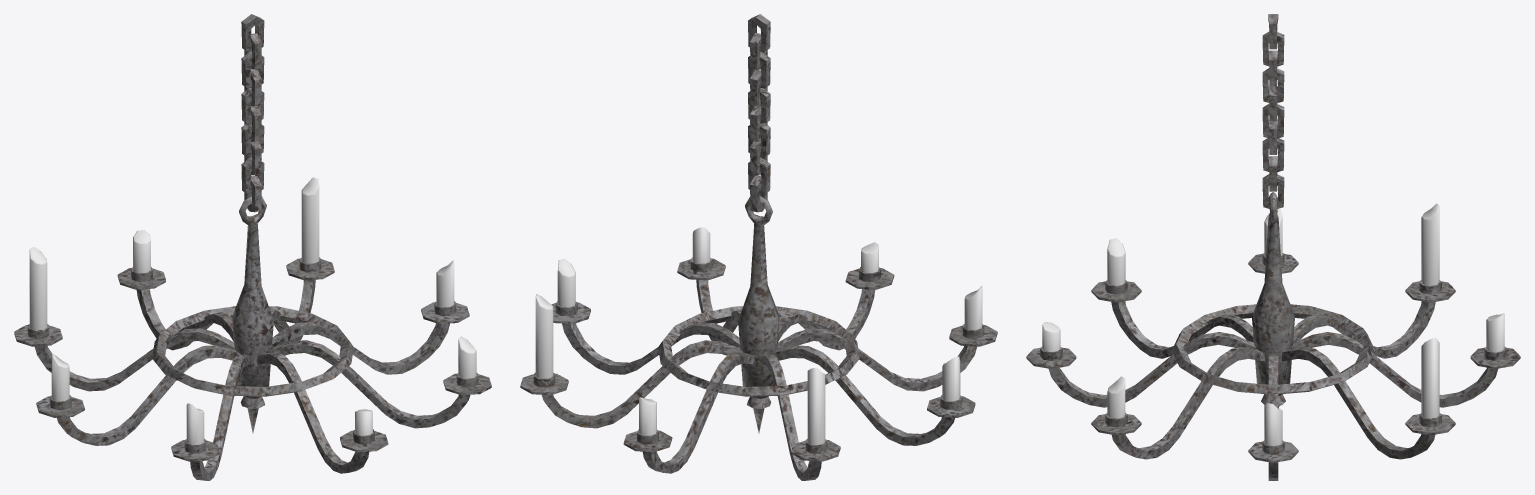
The model's file is Chandelier.fbx.
The picture shows the model from 3 angles, left to right: view 1: azimuth 30°, elevation 25°; view 2: azimuth 150°, elevation 25°; view 3: azimuth 270°, elevation 25°; orthographic projection.
Parts seen in each view (by area): view 1: Люстра, Свечи; view 2: Люстра, Свечи; view 3: Люстра, Свечи.
Part boxes in pixels (x1,y1,x2,y2): Люстра: [14, 14, 491, 480]; Свечи: [29, 177, 476, 444]; Люстра: [520, 14, 997, 480]; Свечи: [535, 227, 982, 444]; Люстра: [1026, 14, 1520, 480]; Свечи: [1042, 203, 1504, 446].
Bounding box in the file's own units: 79.06 × 79.06 × 73.87.
